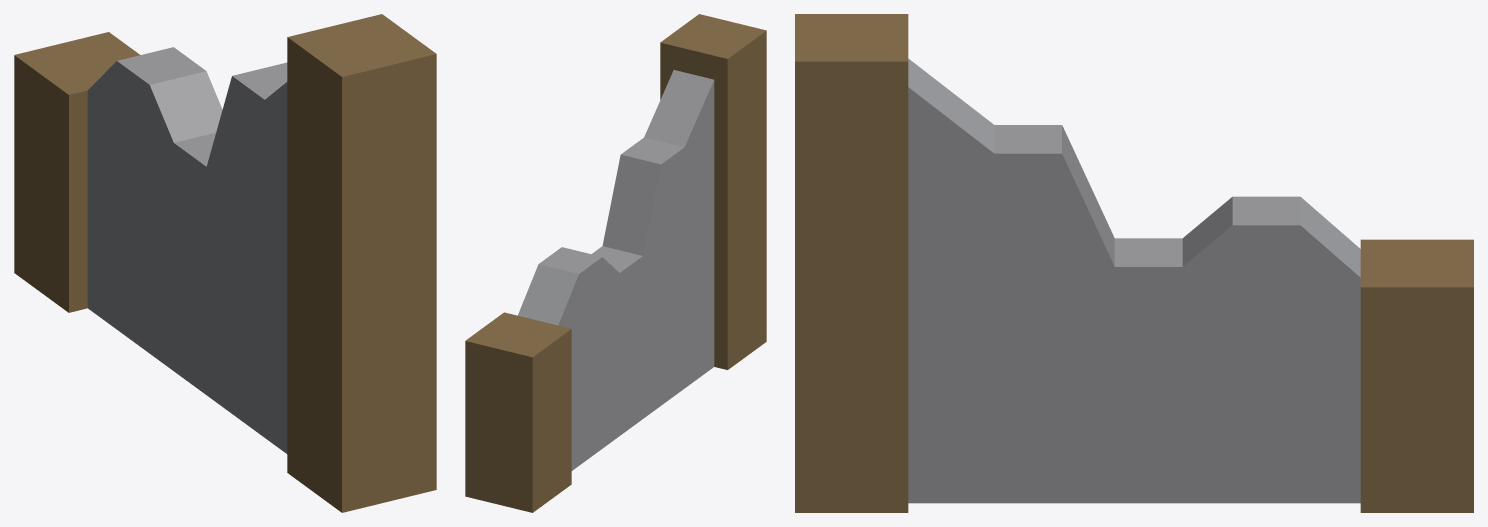
Rendered from Wood_Broken_Wall_01.obj.
The picture shows the model from 3 angles, left to right: view 1: azimuth 30°, elevation 25°; view 2: azimuth 150°, elevation 25°; view 3: azimuth 270°, elevation 25°; orthographic projection. The views are drawn at different scales.
Parts seen in each view (by area): view 1: Mesh1_Wood_Broken_Wall_Model; view 2: Mesh1_Wood_Broken_Wall_Model; view 3: Mesh1_Wood_Broken_Wall_Model.
Boxes of the visible parts, <box> form: Mesh1_Wood_Broken_Wall_Model: <box>14,14,436,512</box>; Mesh1_Wood_Broken_Wall_Model: <box>465,14,766,512</box>; Mesh1_Wood_Broken_Wall_Model: <box>795,14,1473,512</box>.
Bounding box in the file's own units: 0.5 × 2.2 × 3.
